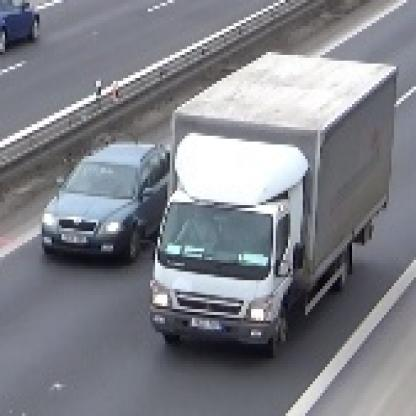truck: (149, 47, 397, 348)
